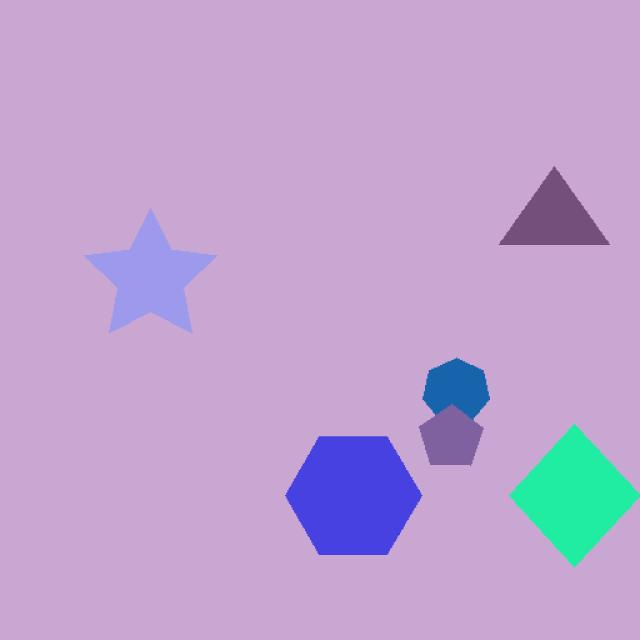Heptagon: (406, 352, 502, 434)
Hexagon: (279, 422, 435, 581)
Pentagon: (408, 396, 499, 496)
Star: (78, 198, 239, 356)
Triangle: (479, 153, 620, 271)
square: (490, 410, 640, 580)
